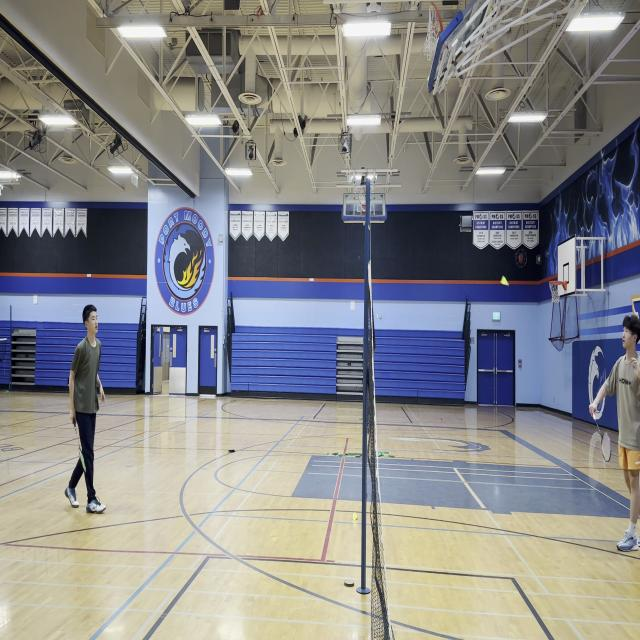shuttlecock: (500, 276, 510, 288)
